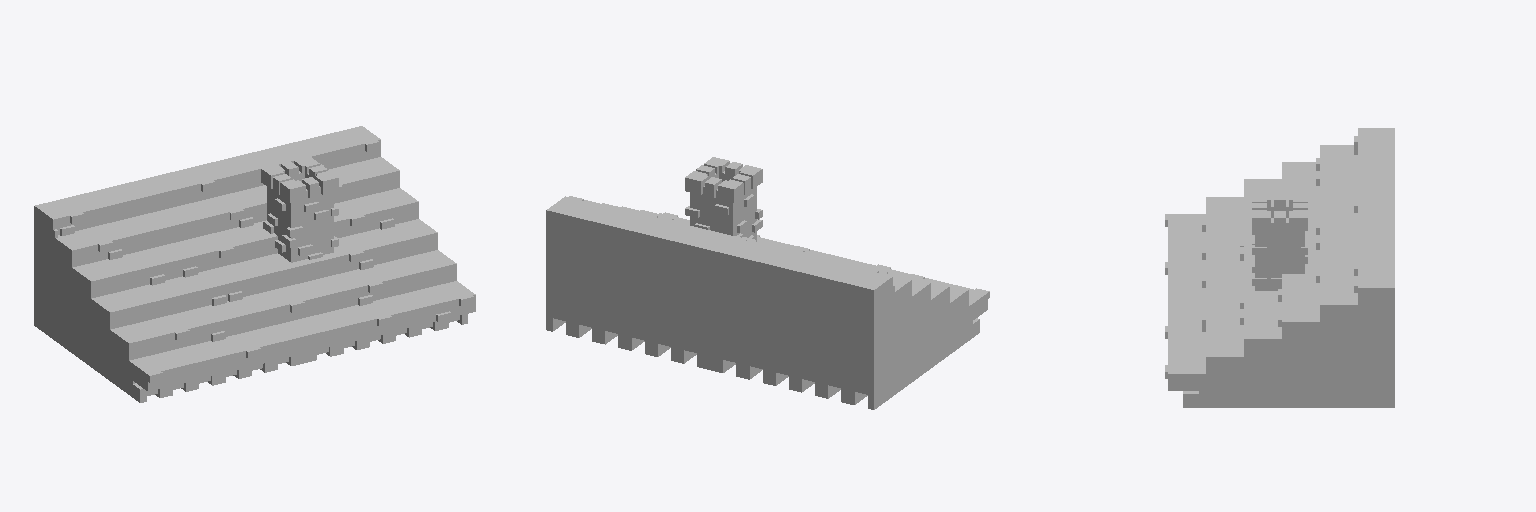
File: House-2-House Ceil kamin.obj
3 renders of one model, left to right at view 1: azimuth 30°, elevation 25°; view 2: azimuth 150°, elevation 25°; view 3: azimuth 270°, elevation 25°, orthographic.
Visible parts, largest first — view 1: House Ceil kamin; view 2: House Ceil kamin; view 3: House Ceil kamin.
Boxes of the visible parts, x1,y1,x2,y2 form: House Ceil kamin: [34, 126, 475, 402]; House Ceil kamin: [546, 157, 989, 409]; House Ceil kamin: [1165, 128, 1394, 407].
Bounding box in the file's own units: 10 × 4.2 × 6.1.